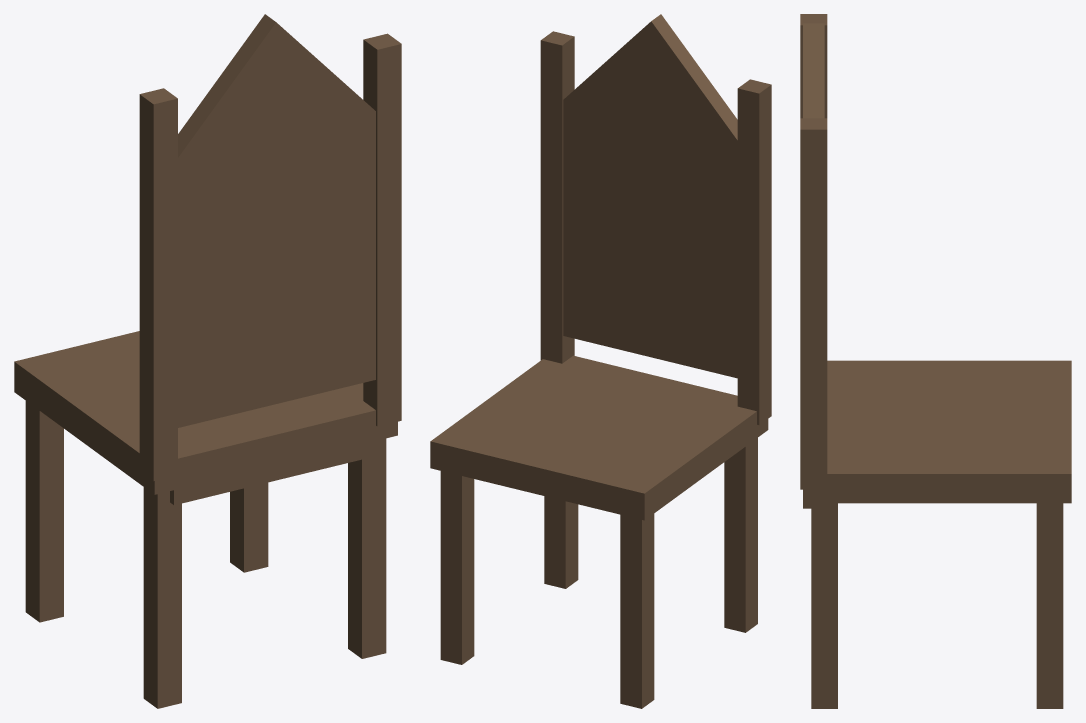
Rendered from HighBackChair.fbx.
3 views of the same model, side by side, from view 1: azimuth 30°, elevation 25°; view 2: azimuth 150°, elevation 25°; view 3: azimuth 270°, elevation 25° (orthographic). The views are drawn at different scales.
Parts seen in each view (by area): view 1: HighBackChair; view 2: HighBackChair; view 3: HighBackChair.
Boxes of the visible parts, left/top/right/bottom form: HighBackChair: left=14, top=14, right=401, bottom=708; HighBackChair: left=430, top=14, right=771, bottom=708; HighBackChair: left=800, top=14, right=1071, bottom=708.
Size of the model in its own units: 0.51 by 1.3 by 0.505.
